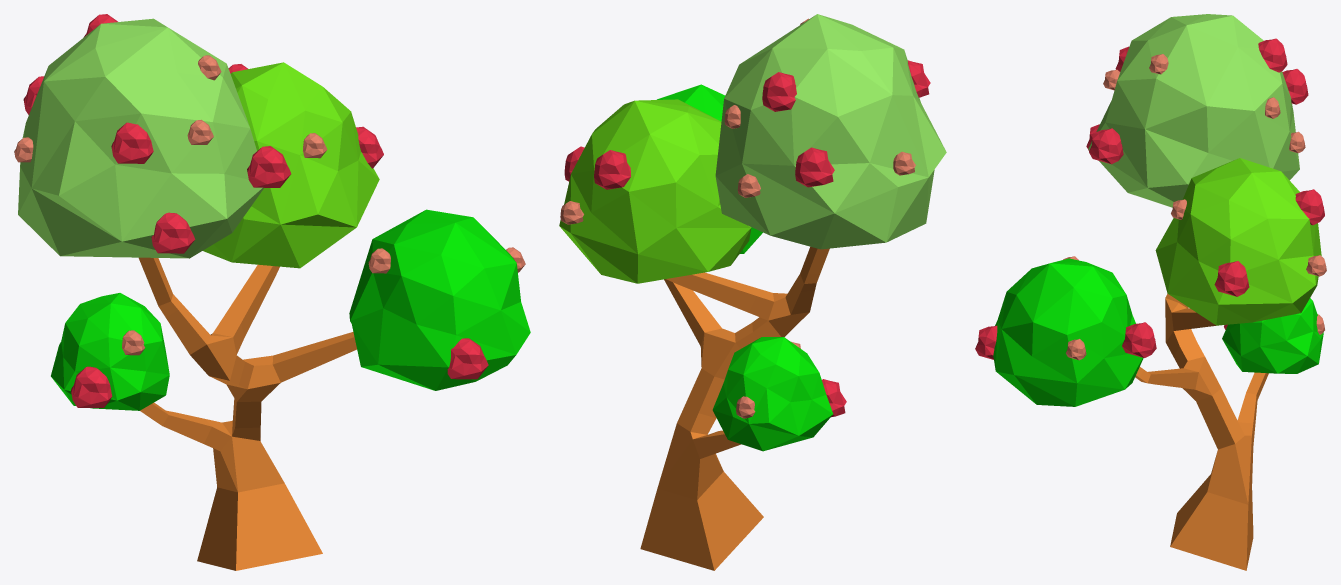
File: TreeFruity.fbx
The picture shows the model from 3 angles, left to right: view 1: azimuth 30°, elevation 25°; view 2: azimuth 150°, elevation 25°; view 3: azimuth 270°, elevation 25°; orthographic projection. The views are drawn at different scales.
Visible parts, largest first — view 1: TreeFruity; view 2: TreeFruity; view 3: TreeFruity.
Part boxes in pixels (box(x1,y1,x2,y2)): TreeFruity: box(14, 14, 530, 570); TreeFruity: box(559, 14, 946, 570); TreeFruity: box(975, 14, 1326, 570).
Size of the model in its own units: 1273 by 1687 by 1112.
